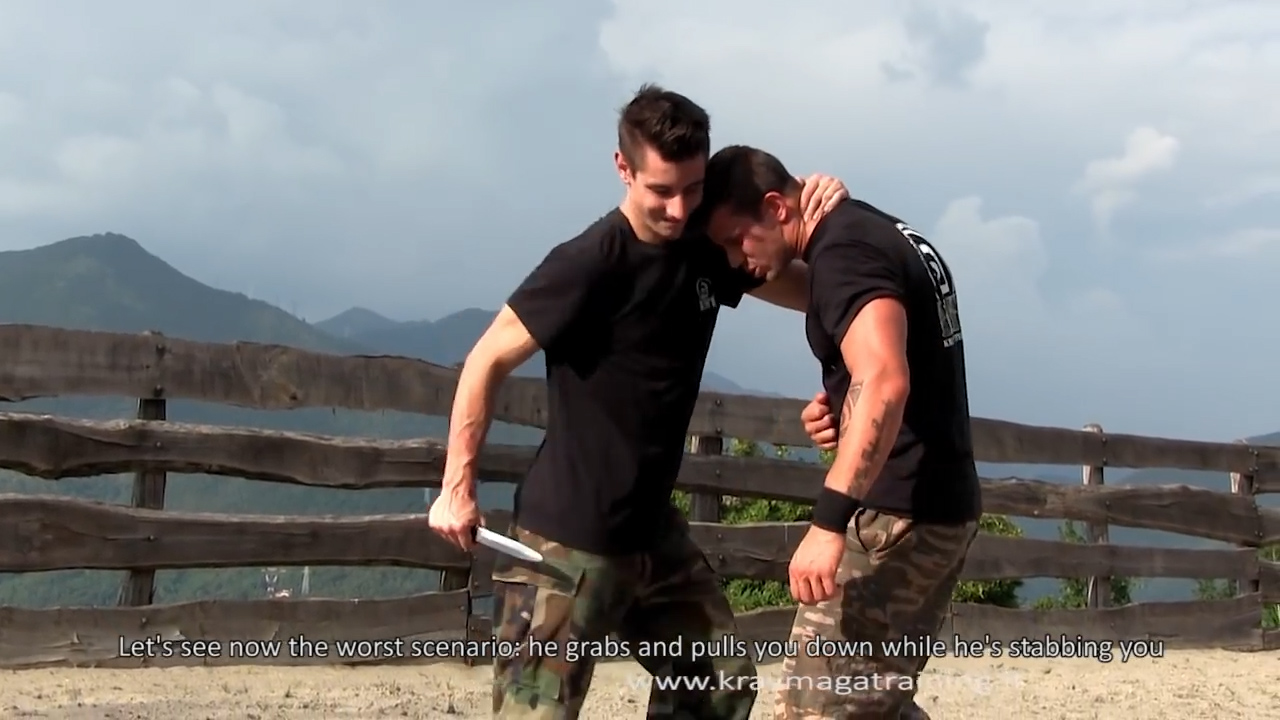knife: (426, 508, 557, 580)
